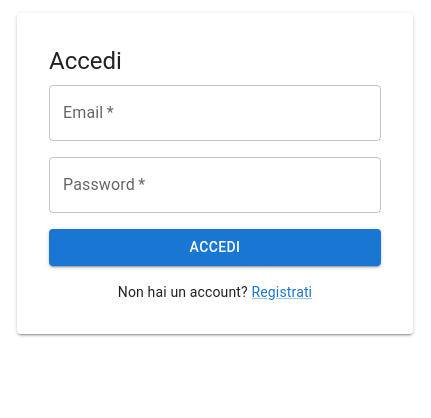
Login › mostra il messaggio del server se le credenziali sono sbagliate e resta sulla pagina
The image size is (431, 418).
Type "mario@example.com" into the field labelled "Email *" at coordinates (215, 113), box left=49, top=85, right=381, bottom=141
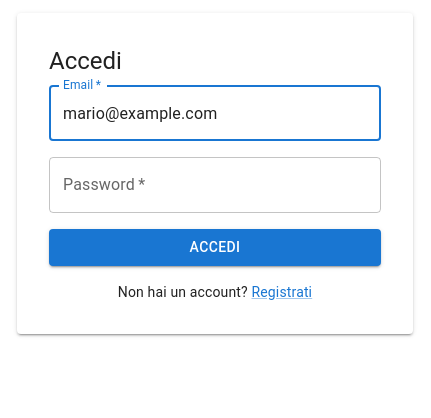
Type "sbagliata" into the password field labelled "Password *" at coordinates (215, 185), box left=49, top=157, right=381, bottom=213
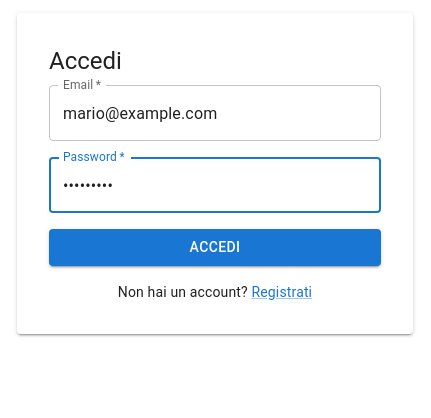
Click the button "Accedi" at coordinates (215, 248), box left=49, top=229, right=381, bottom=266
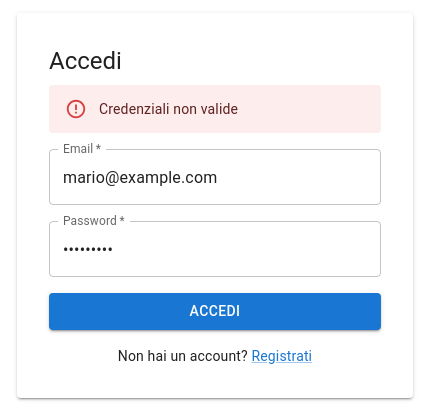
Now the message reads "Credenziali non valide", box left=99, top=101, right=238, bottom=117
